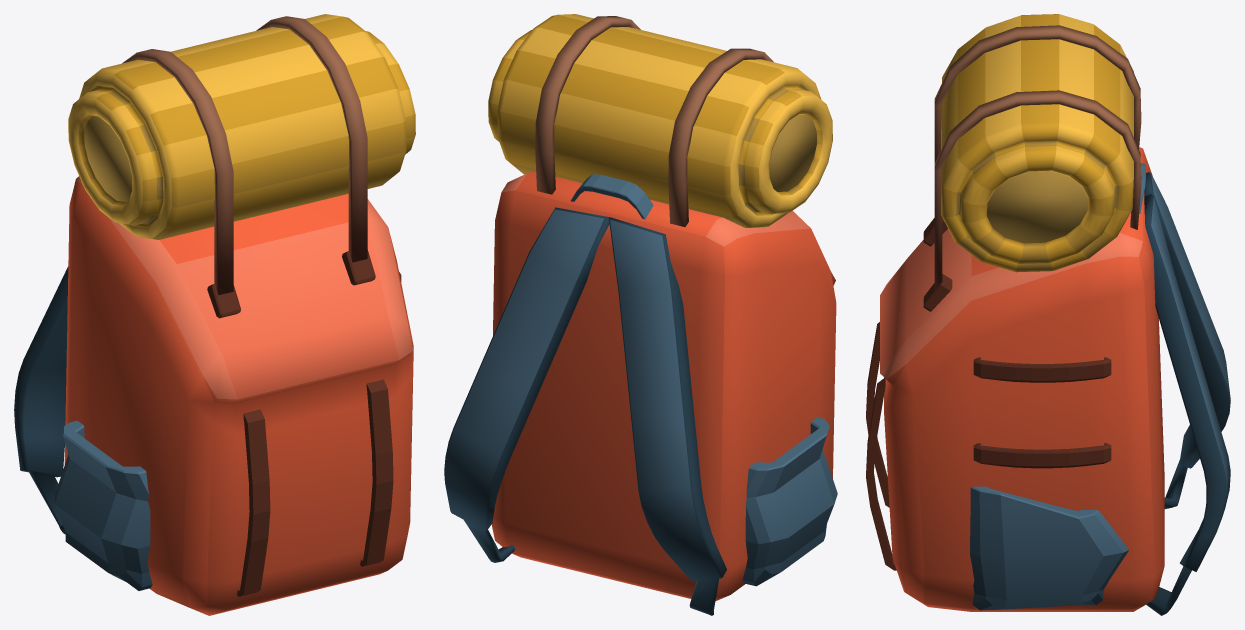
Rendered from SM_BackPack_30.fbx.
3 views of the same model, side by side, from view 1: azimuth 30°, elevation 25°; view 2: azimuth 150°, elevation 25°; view 3: azimuth 270°, elevation 25° (orthographic).
Visible parts, largest first — view 1: SM_BackPack_30; view 2: SM_BackPack_30; view 3: SM_BackPack_30.
Boxes of the visible parts, box(x1,y1,x2,y2) form: SM_BackPack_30: box(14, 14, 415, 615); SM_BackPack_30: box(444, 14, 837, 615); SM_BackPack_30: box(866, 14, 1230, 615).
Bounding box in the file's own units: 93.69 × 153 × 100.
